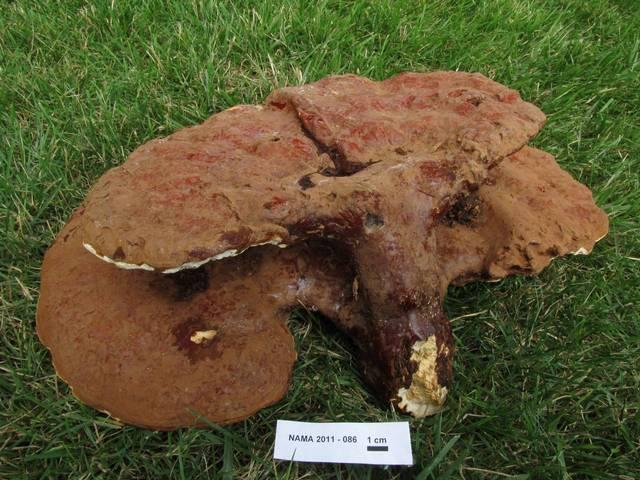Non-edible Mushroom: (34, 68, 609, 430)
